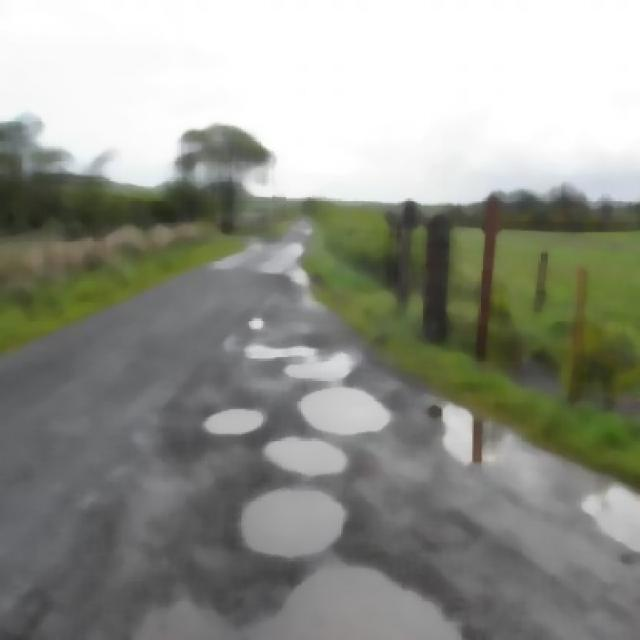Pothole: (138, 566, 474, 640), (251, 418, 372, 480), (233, 479, 349, 539), (292, 382, 390, 441), (200, 399, 268, 441)
